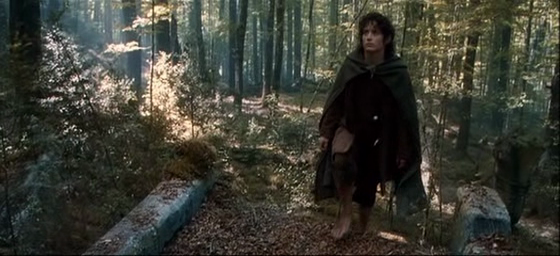face: (361, 25, 385, 53)
ls: (1, 1, 560, 256)
person: (314, 12, 429, 240)
